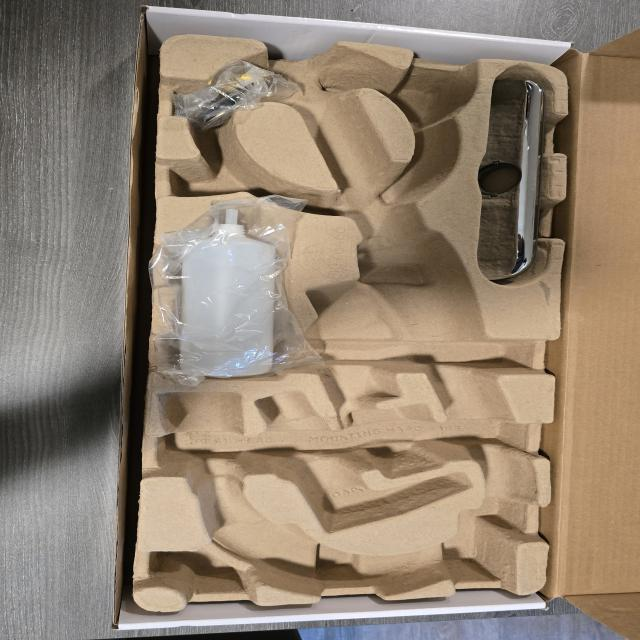1m: (159, 44, 534, 596)
2m: (256, 394, 469, 532)
3: (178, 207, 280, 377)
4: (476, 78, 537, 280)
5m: (394, 72, 465, 115)
6: (176, 60, 301, 127)
7m: (164, 134, 289, 196)
